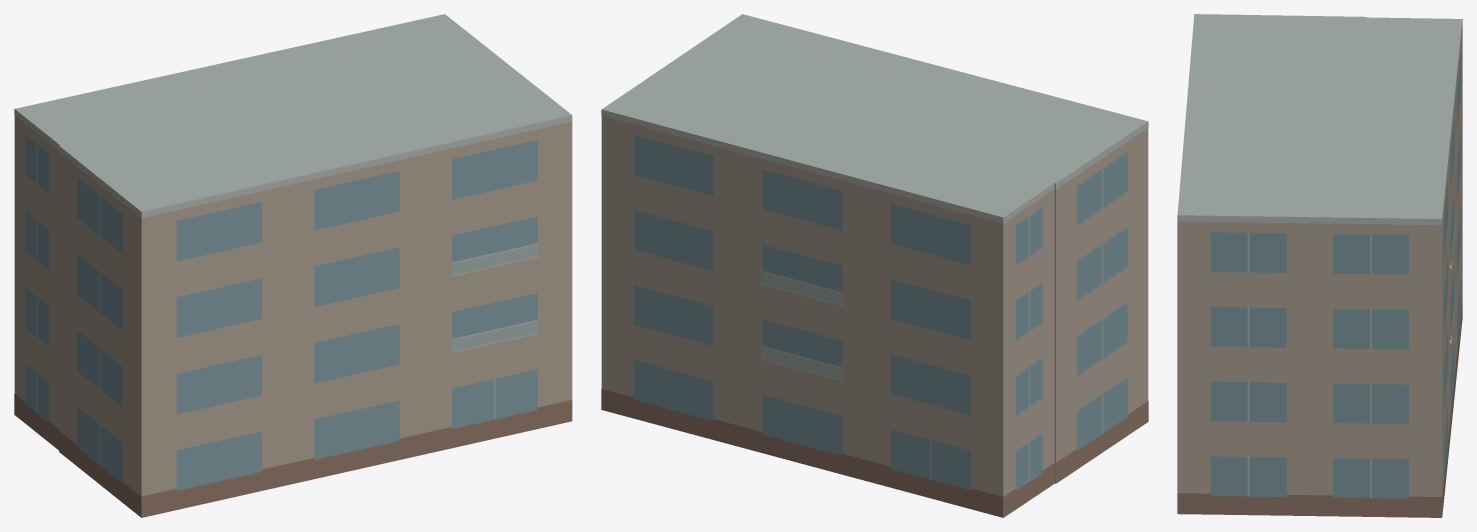
The model's file is survey-upis-32653433.glb.
3 views of the same model, side by side, from view 1: azimuth 30°, elevation 25°; view 2: azimuth 150°, elevation 25°; view 3: azimuth 270°, elevation 25° (orthographic). The views are drawn at different scales.
Parts seen in each view (by area): view 1: survey-upis-32653433.tmp; view 2: survey-upis-32653433.tmp; view 3: survey-upis-32653433.tmp.
Part boxes in pixels (x1,y1,x2,y2): survey-upis-32653433.tmp: (14, 14, 572, 517); survey-upis-32653433.tmp: (601, 14, 1148, 517); survey-upis-32653433.tmp: (1177, 14, 1462, 517).
Size of the model in its own units: 17.38 by 11.8 by 10.21.
